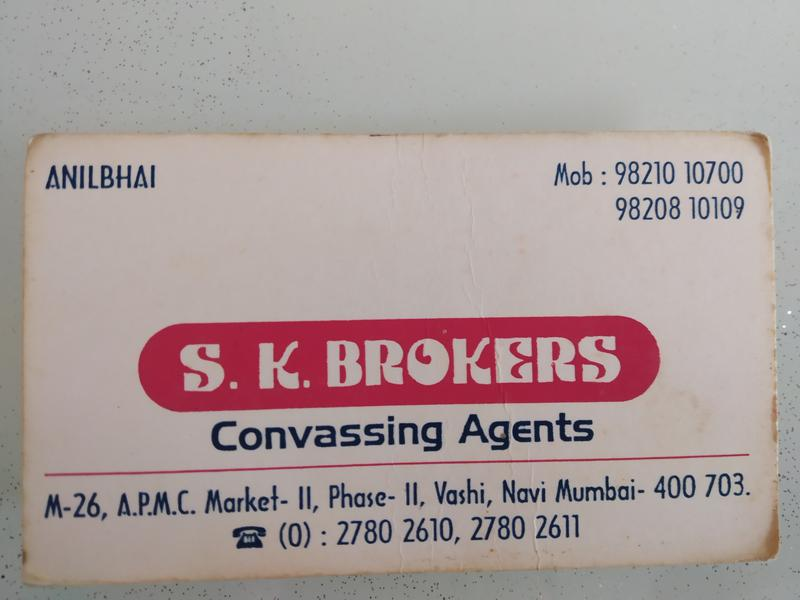card: (23, 132, 778, 580)
